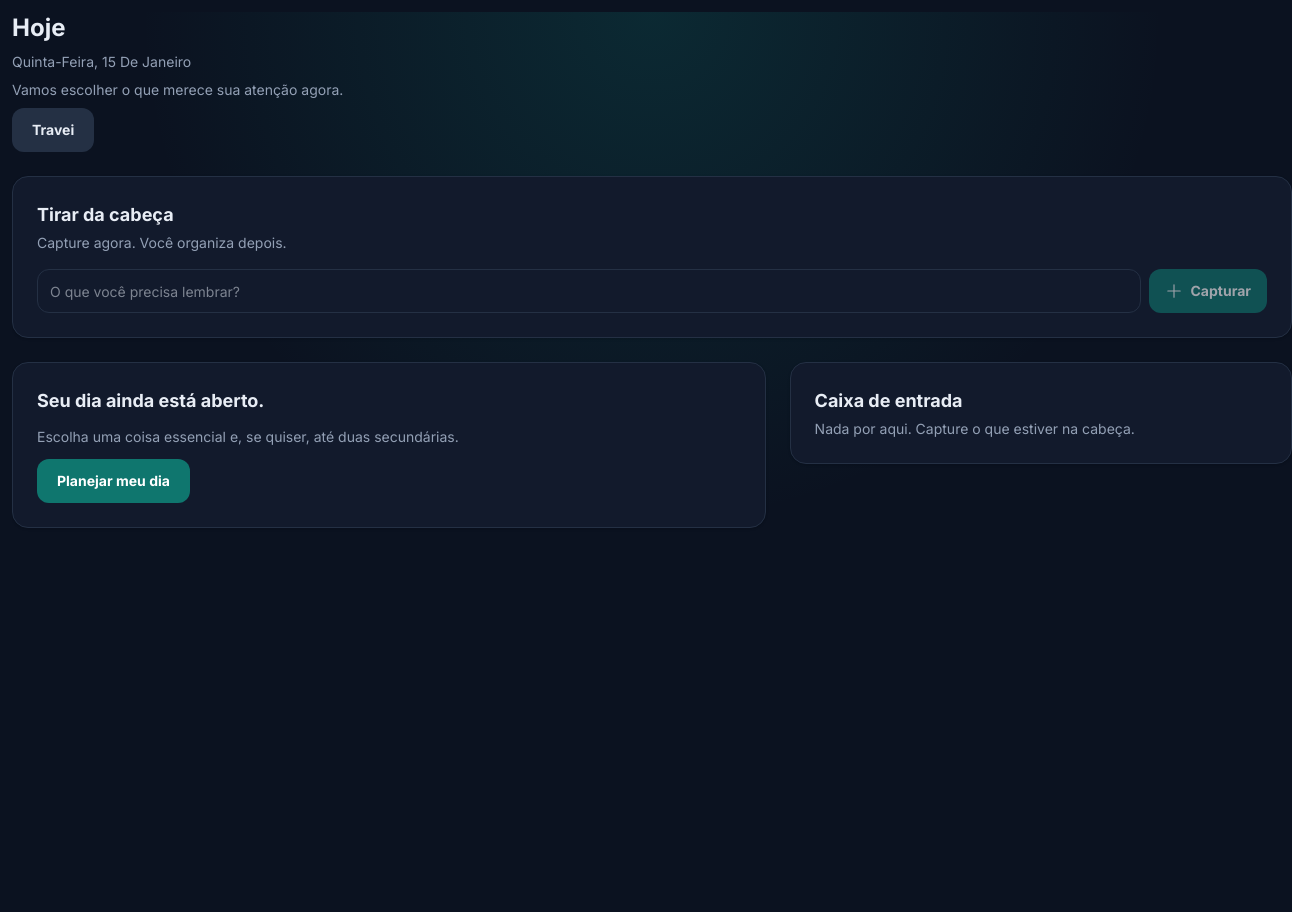
it: Today screen › capture › creates an inbox task, clears the field, keeps focus and announces
The width and height of the screenshot is (1292, 912).
Expected: the heading "Hoje" is shown, [12,13,66,42]
Type "  Ligar para a clínica  " into the field with placeholder "O que você precisa lembrar?". click: (589, 291)
box: [37,269,1140,313]
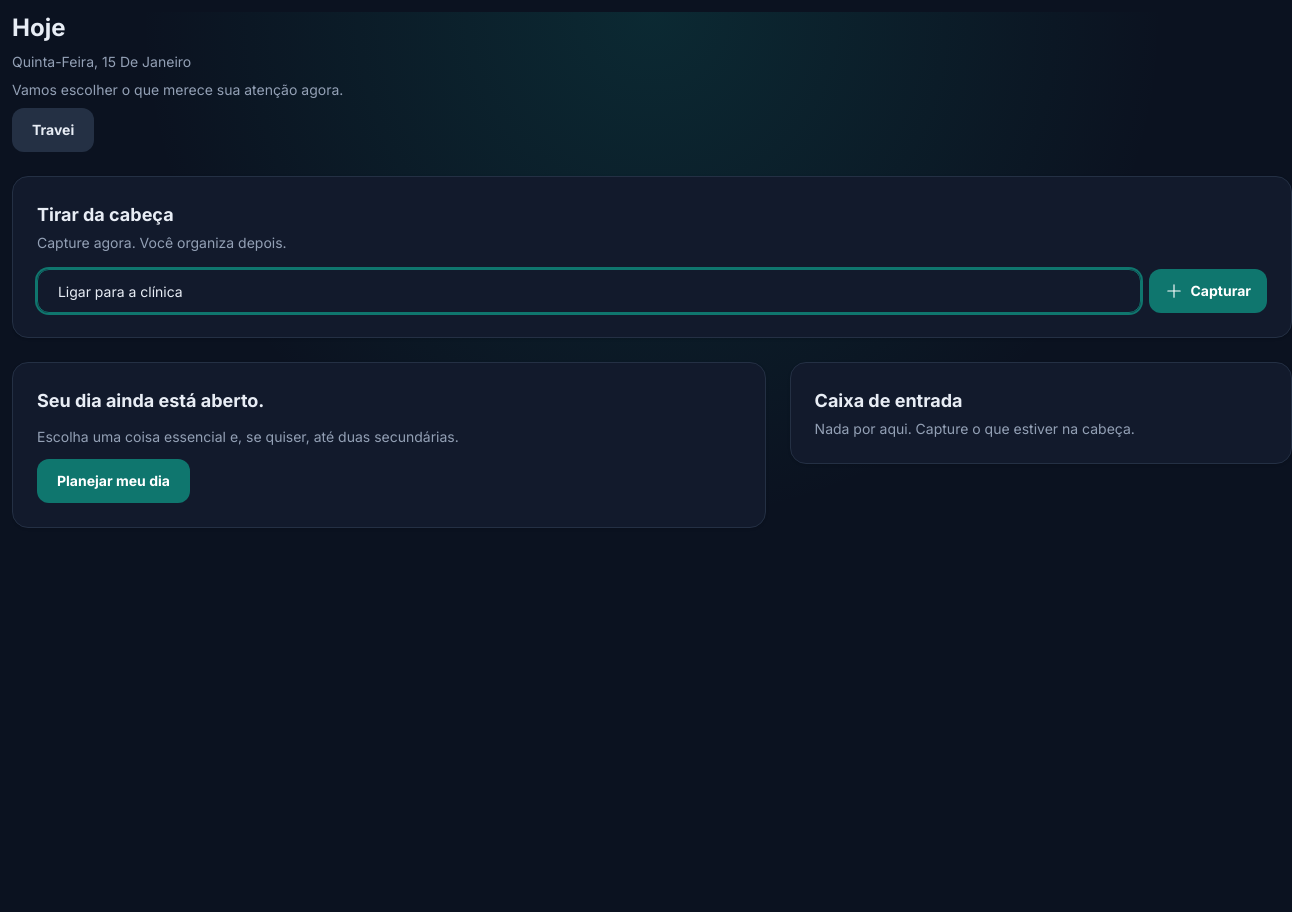
Click the button with aria-label "Capturar tarefa". click: click(1208, 291)
box: [1148,269,1267,313]
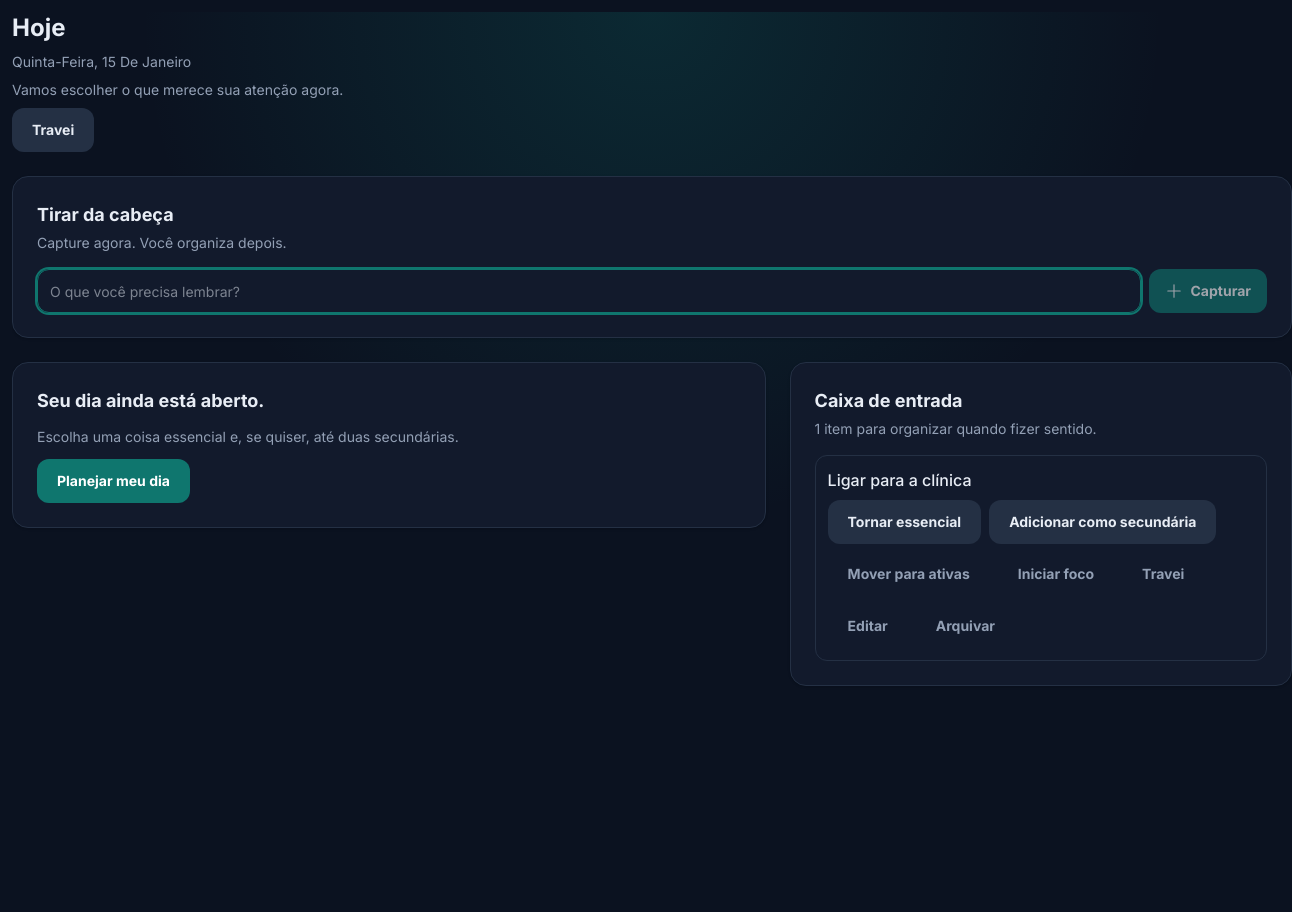
Now the field with placeholder "O que você precisa lembrar?" is empty, box [37,269,1140,313]
Now the text "Ligar para a clínica" is shown, box [828,470,972,490]
